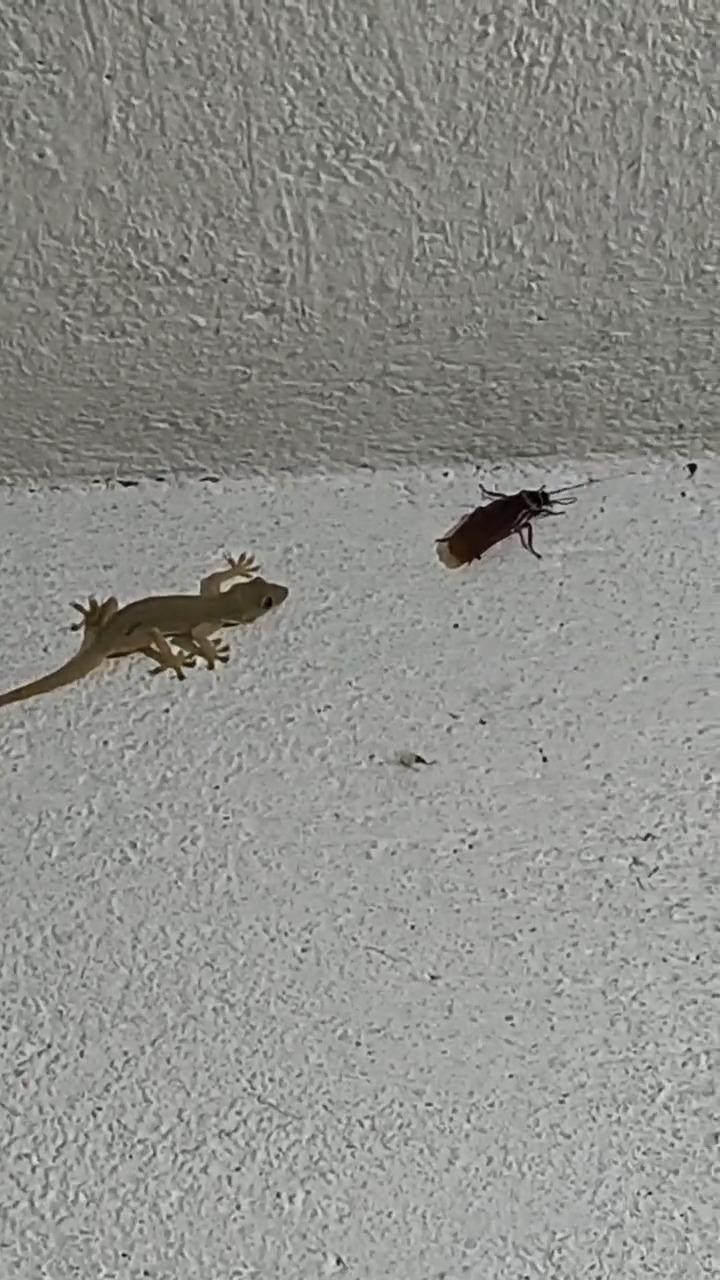cockroach: (423, 471, 603, 582)
lizard: (0, 546, 295, 708)
